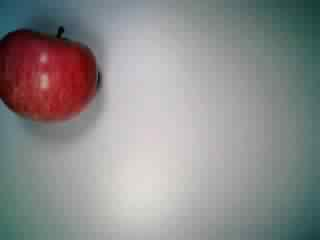apple: (1, 19, 106, 123)
